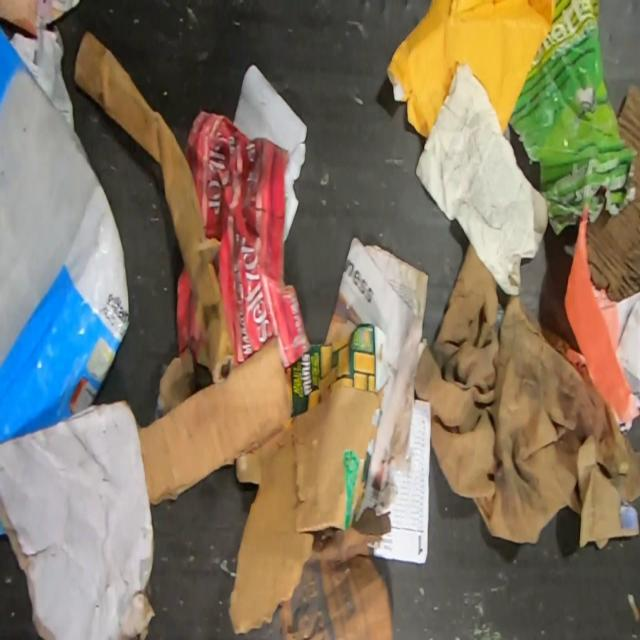cardboard: (73, 29, 383, 634), (0, 399, 156, 640), (564, 217, 640, 429), (588, 80, 640, 303), (176, 265, 209, 370), (0, 0, 79, 36)
soft_plastic: (0, 29, 128, 441)
